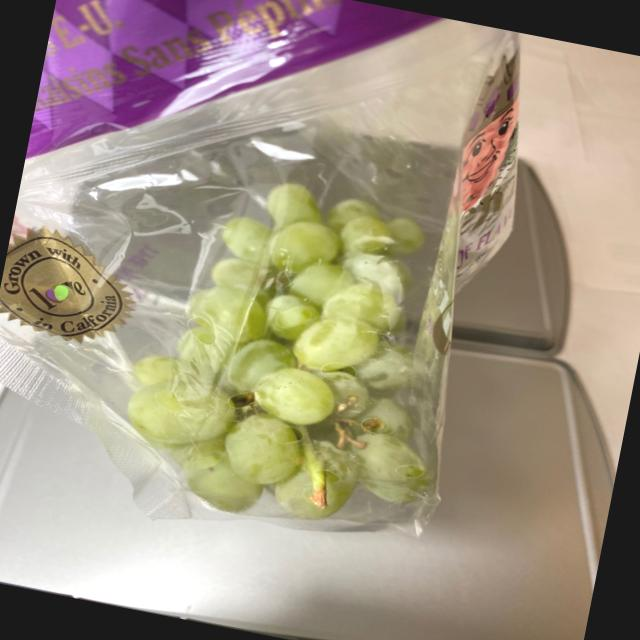grapes: (115, 152, 456, 538)
